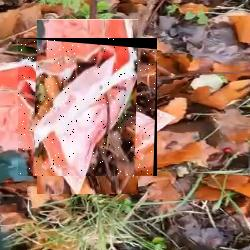restaffald: (18, 38, 157, 176)
